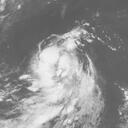cyclone: (28, 37, 101, 103)
